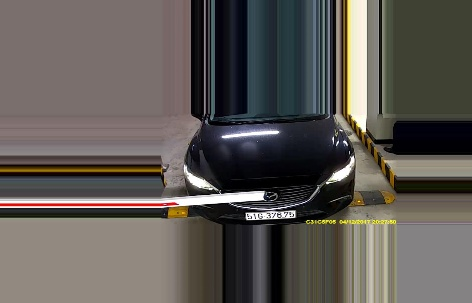plate: (245, 207, 298, 221)
